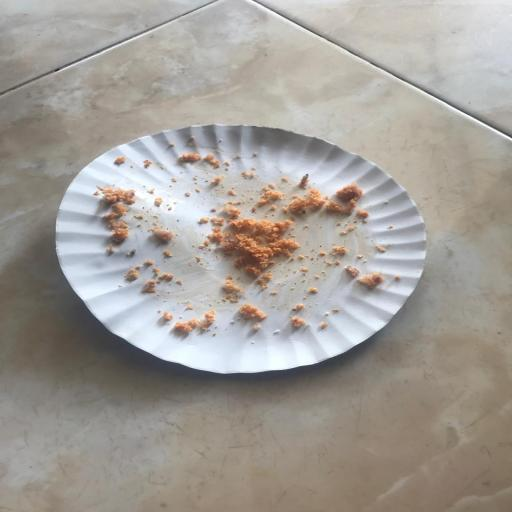waste: (46, 120, 442, 378)
